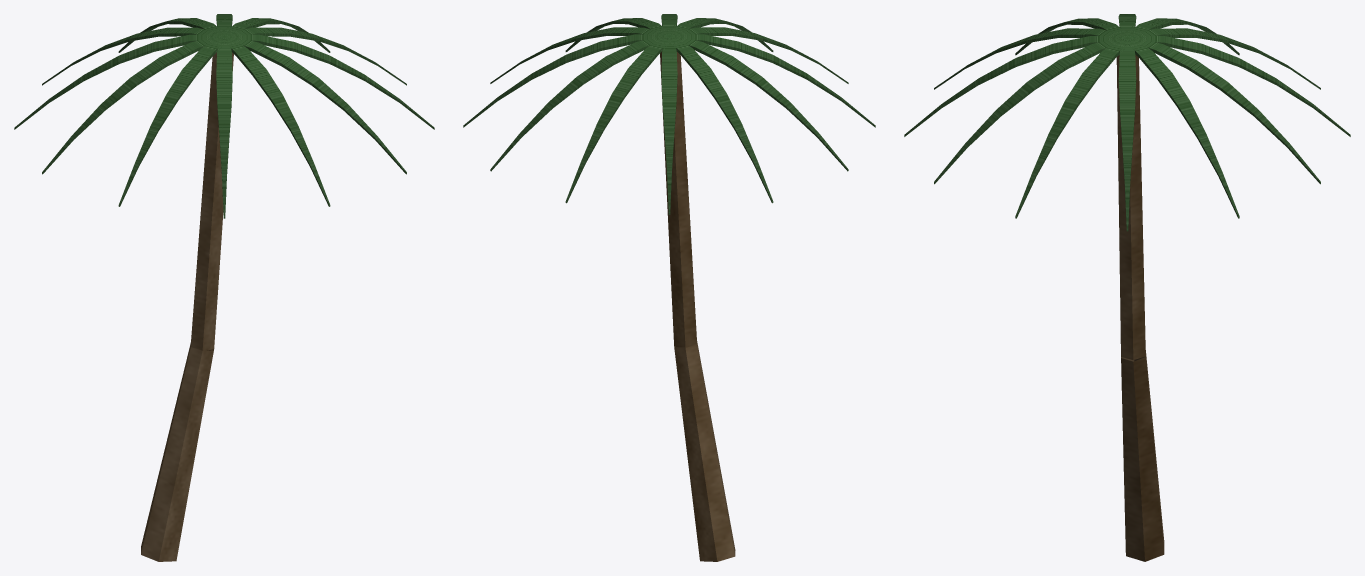
Rendered from ambient_tree_25.glb.
The picture shows the model from 3 angles, left to right: view 1: azimuth 30°, elevation 25°; view 2: azimuth 150°, elevation 25°; view 3: azimuth 270°, elevation 25°; orthographic projection. The views are drawn at different scales.
Visible parts, largest first — view 1: ambient_tree_25; view 2: ambient_tree_25; view 3: ambient_tree_25.
Part boxes in pixels (box(x1,y1,x2,y2)): ambient_tree_25: box(14, 14, 434, 561); ambient_tree_25: box(463, 14, 875, 561); ambient_tree_25: box(904, 14, 1350, 561).
Size of the model in its own units: 7.6 by 10.23 by 7.6.
2 materials, 2 textured.
